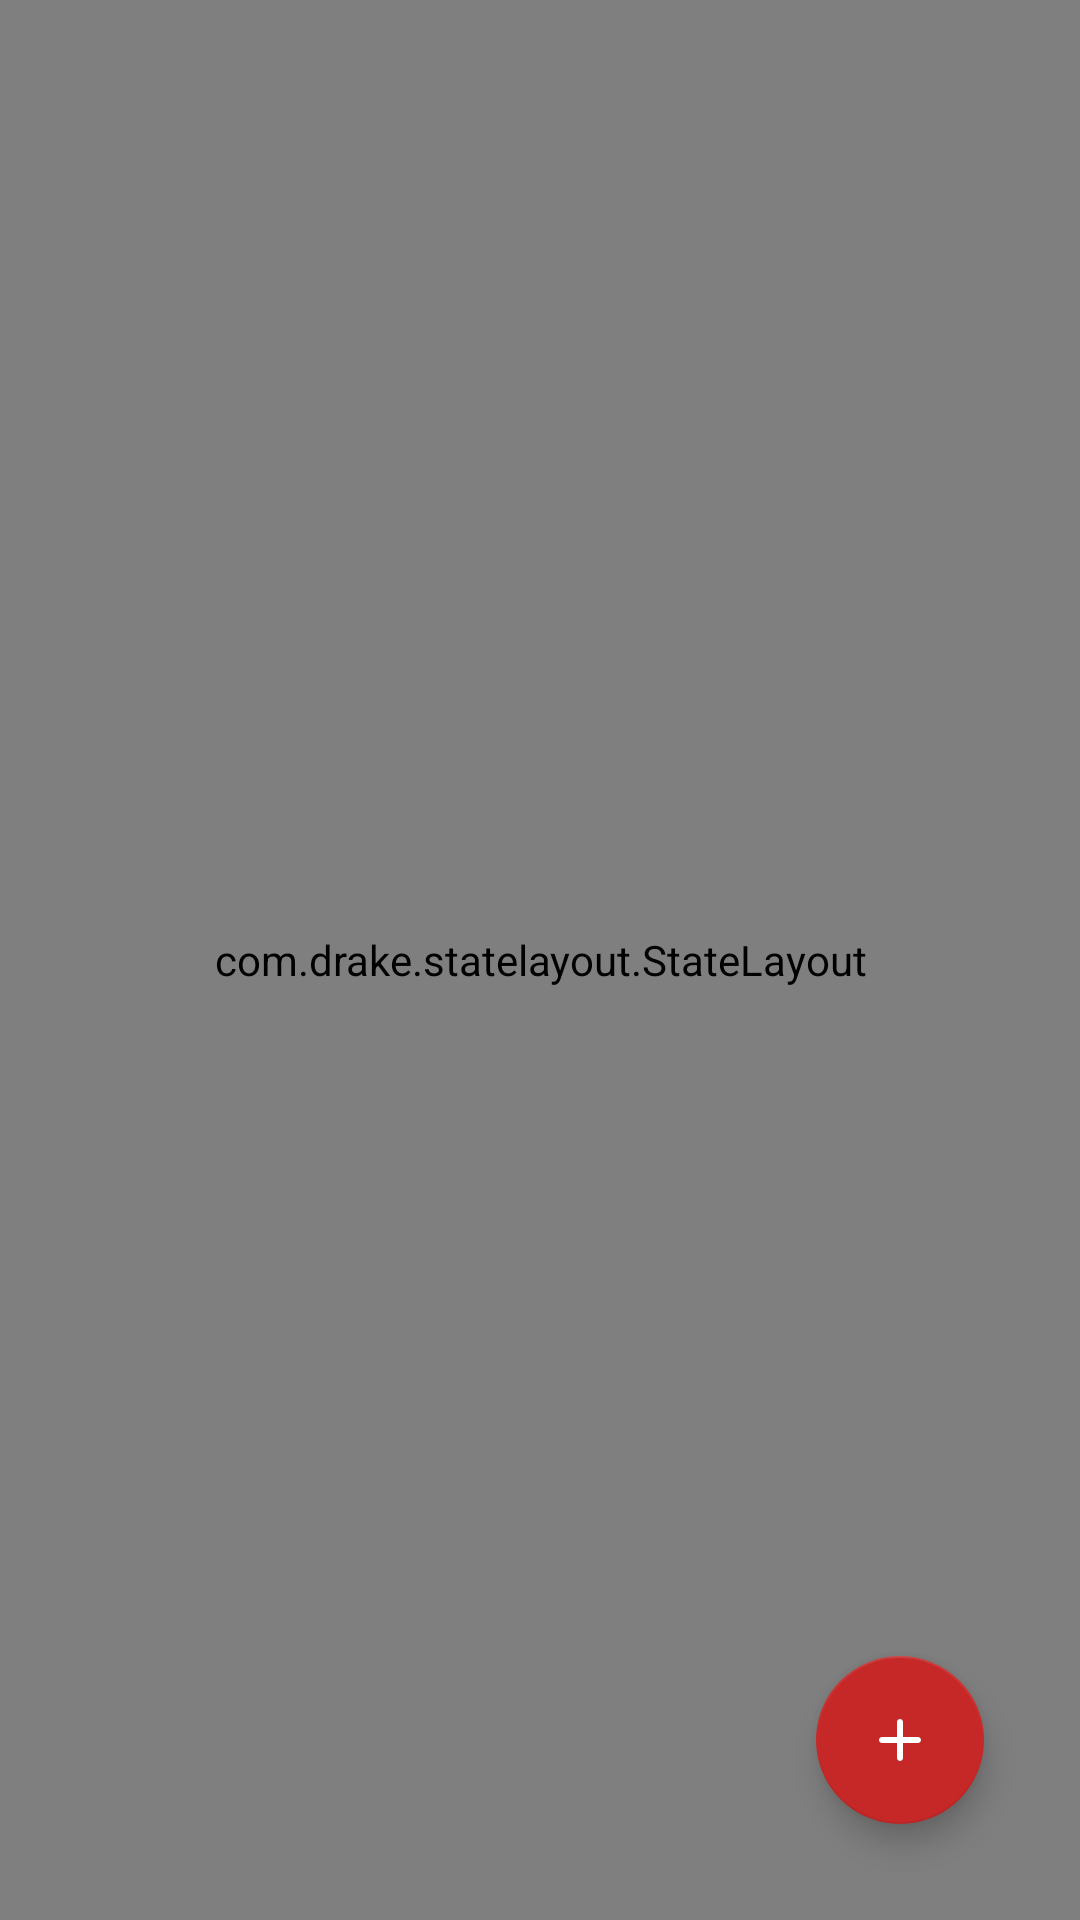

Icon bounding boxes for this 1080×1920 phone screenshot, format bbox=(x1, y1, x2, y2):
添加歌单: bbox=(816, 1656, 984, 1824)
